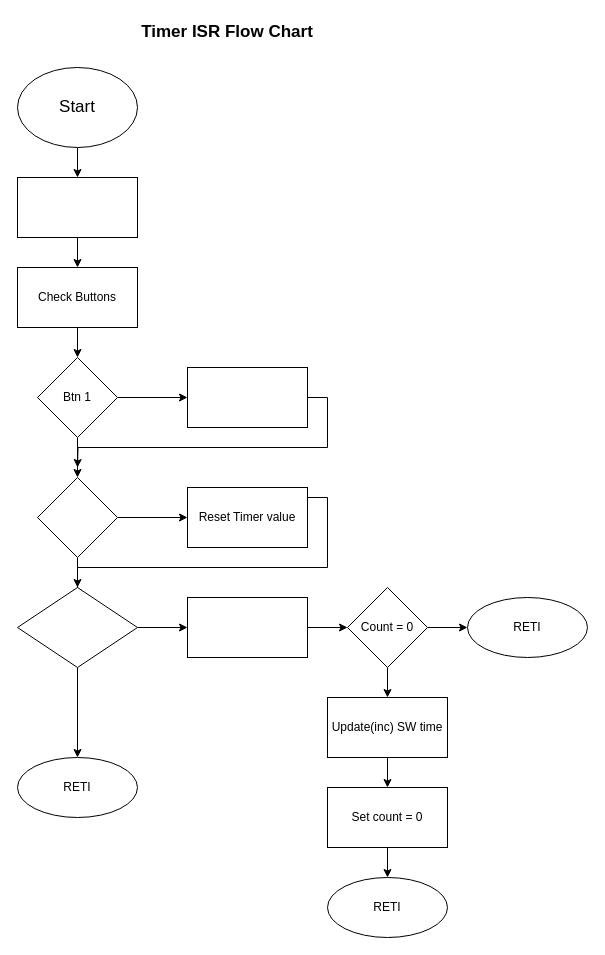
The diagram is 605 pixels wide and 955 high, and some of its shapes have lost their labels. The box of each missing label's shape, as (x1, y1, x2, y2) in pixels:
Btn 2: (36, 476, 118, 558)
Check for timer Running: (16, 586, 138, 668)
Clear TF2: (16, 176, 138, 238)
Count --: (186, 596, 308, 658)
Stopwatch Flag CPL: (186, 366, 308, 428)
